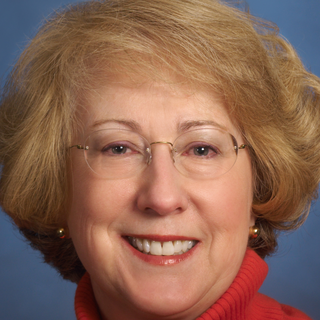eye: (98, 139, 145, 162), (177, 141, 226, 162)
